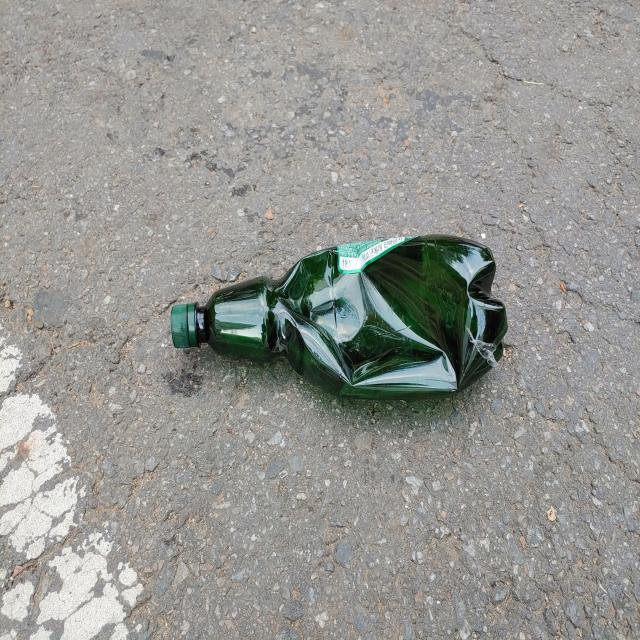plastic: (170, 235, 508, 398)
